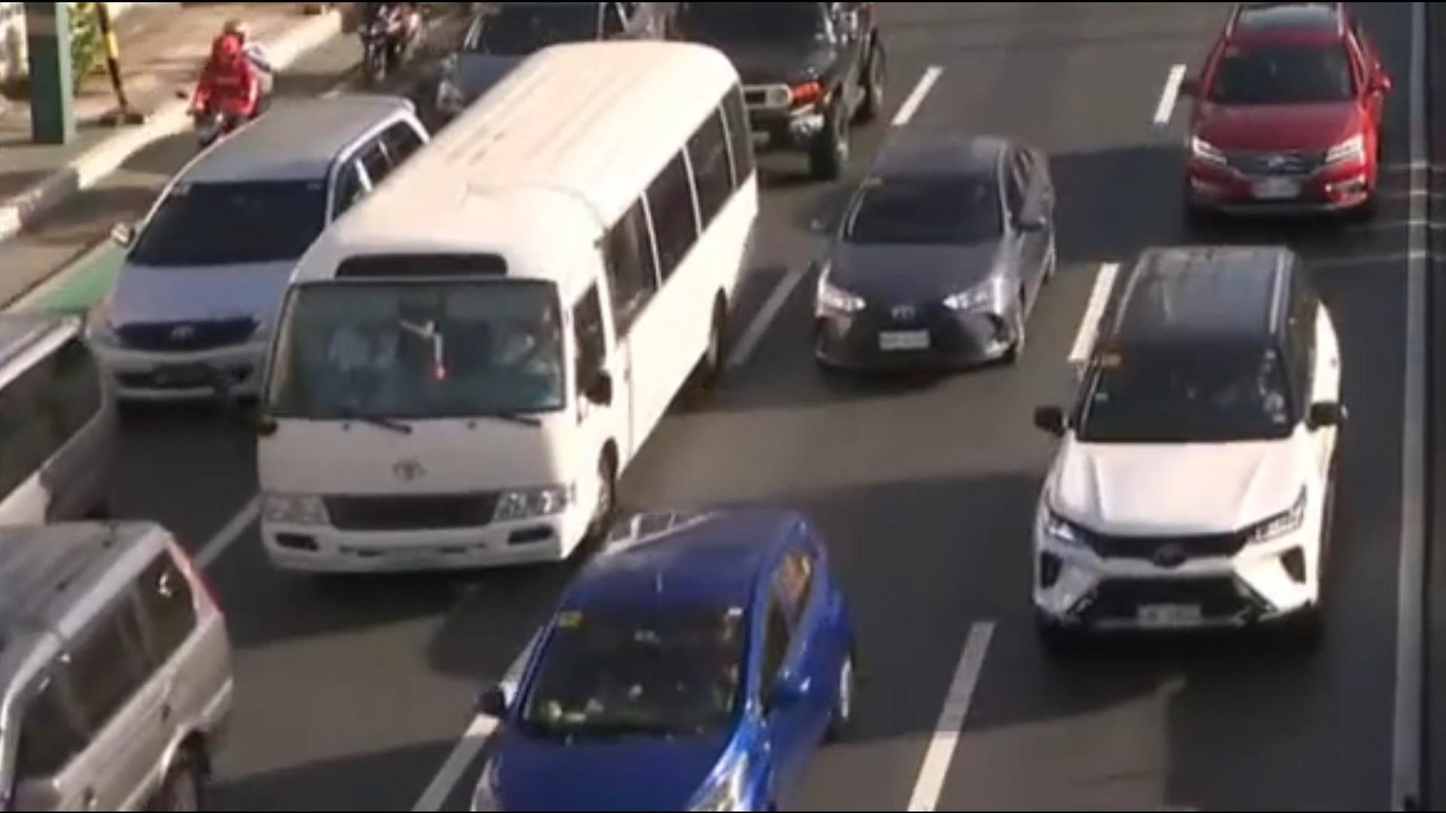Motorcycle: (177, 13, 288, 152)
SUV: (1026, 243, 1346, 644), (104, 85, 431, 418), (0, 518, 232, 813), (663, 0, 891, 173), (0, 305, 117, 576)
Sedan: (463, 512, 855, 813), (800, 139, 1064, 375), (1171, 0, 1390, 226), (429, 2, 661, 139)
Van: (264, 41, 755, 578)
